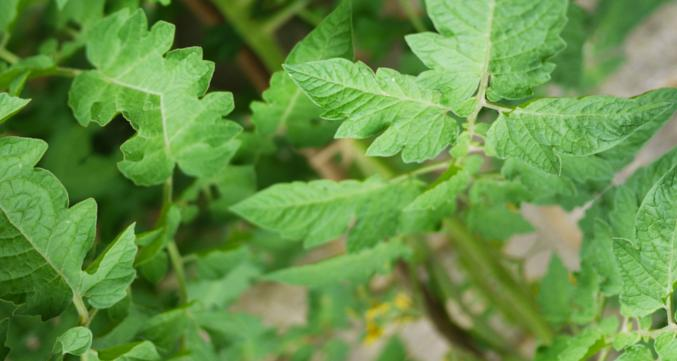Tomato leaf: (257, 0, 494, 216), (220, 97, 439, 311), (467, 13, 677, 219), (0, 150, 196, 361), (366, 0, 627, 139), (102, 49, 287, 231), (251, 181, 412, 336), (91, 317, 265, 361)
